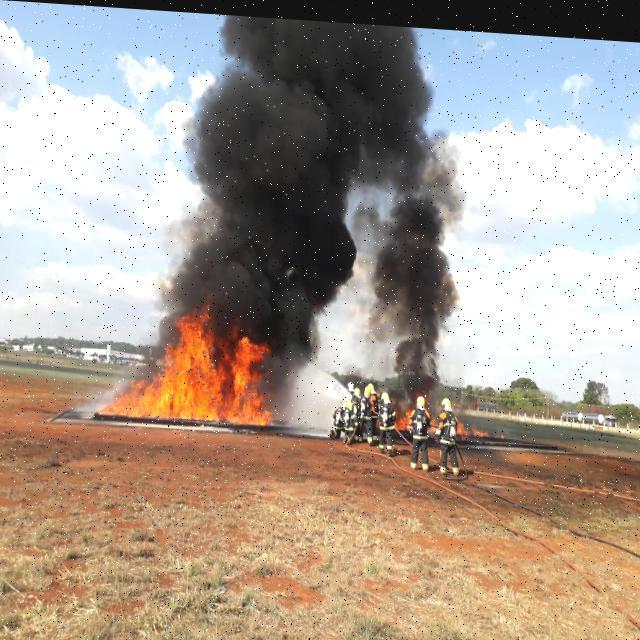Fire: (104, 295, 272, 421), (456, 409, 488, 431), (394, 398, 410, 424)
